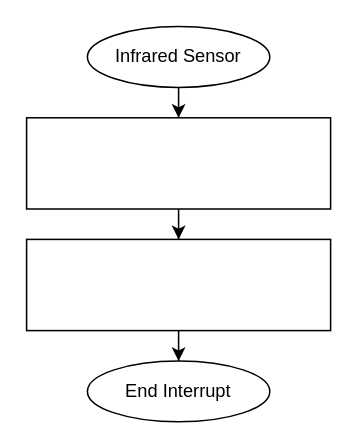
The diagram is 357 pixels wide and 448 high, and some of its shapes have lost their labels. Each missing label, with the centre of its shape:
Change Direction: the point at 178,284
Stop: the point at 178,162
